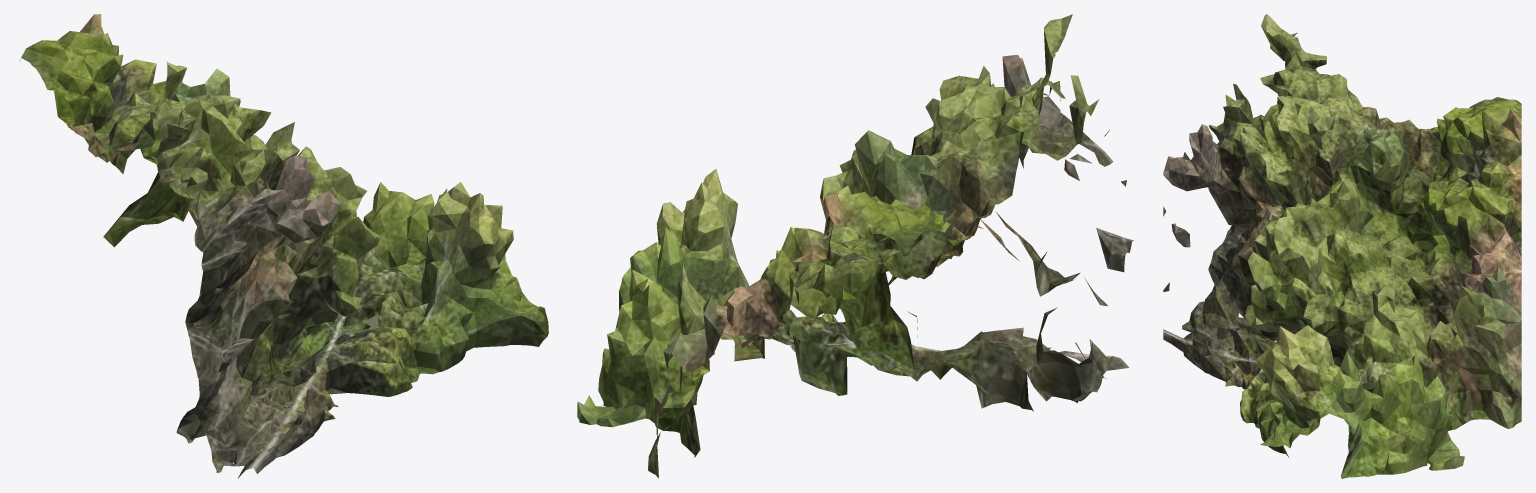
3 renders of one model, left to right at view 1: azimuth 30°, elevation 25°; view 2: azimuth 150°, elevation 25°; view 3: azimuth 270°, elevation 25°, orthographic. The views are drawn at different scales.
Bounding box in the file's own units: 11.8 × 11.39 × 11.8.
6 materials, 6 textured.
